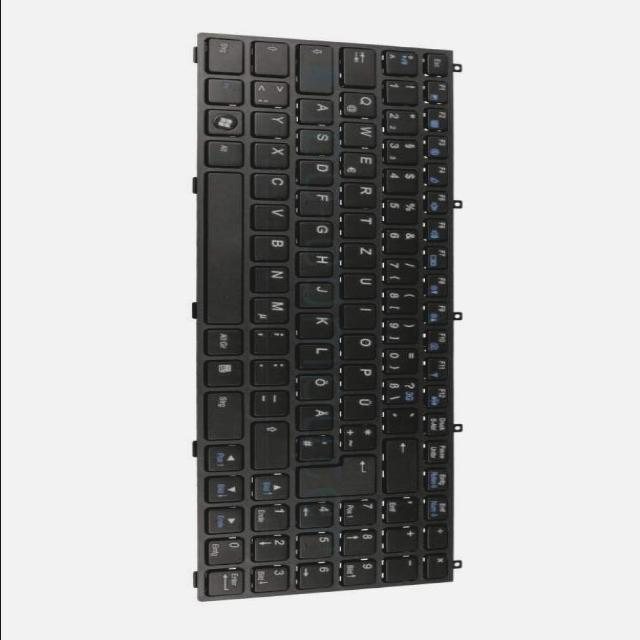0: (387, 346, 423, 372)
1: (387, 77, 423, 103)
2: (388, 106, 422, 132)
3: (388, 136, 422, 162)
4: (388, 166, 422, 192)
5: (388, 196, 422, 222)
6: (388, 226, 422, 252)
7: (387, 256, 423, 282)
8: (386, 286, 422, 312)
9: (387, 315, 423, 341)
a: (302, 96, 338, 122)
accent: (388, 406, 422, 431)
ae: (299, 402, 338, 429)
alt-left: (208, 138, 248, 166)
altgr-right: (208, 326, 248, 354)
b: (255, 232, 294, 260)
c: (255, 170, 294, 197)
caret: (387, 48, 423, 74)
comma: (253, 325, 293, 353)
d: (300, 157, 338, 183)
del: (387, 436, 423, 490)
e: (345, 150, 381, 176)
enter: (299, 452, 381, 494)
f: (300, 187, 338, 213)
g: (300, 218, 338, 244)
h: (300, 249, 338, 275)
hash: (300, 432, 339, 458)
i: (344, 301, 380, 327)
j: (300, 279, 338, 305)
k: (300, 310, 338, 336)
keyboard: (194, 26, 462, 606)
l: (300, 341, 338, 367)
less: (255, 78, 294, 105)
m: (254, 294, 294, 322)
minus: (254, 387, 294, 415)
n: (254, 263, 294, 291)
o: (345, 331, 381, 357)
oe: (300, 371, 338, 398)
p: (345, 361, 381, 387)
plus: (345, 422, 381, 448)
point: (254, 356, 293, 384)
q: (345, 89, 381, 115)
r: (345, 180, 381, 206)
s: (302, 126, 338, 152)
shift-left: (255, 38, 294, 74)
shift-lock: (300, 42, 339, 92)
shift-right: (255, 419, 295, 467)
space: (207, 169, 249, 323)
ss: (387, 376, 421, 402)
strg-left: (209, 34, 249, 72)
strg-right: (205, 390, 245, 442)
t: (345, 210, 381, 236)
tab: (346, 45, 382, 85)
u: (344, 270, 380, 296)
ue: (345, 392, 381, 418)
v: (254, 202, 294, 229)
w: (345, 119, 381, 145)
x: (255, 140, 294, 167)
y: (255, 109, 294, 135)
z: (345, 240, 381, 266)
